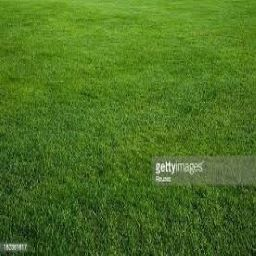grass: (3, 3, 252, 147), (3, 150, 149, 236), (152, 189, 249, 251)
